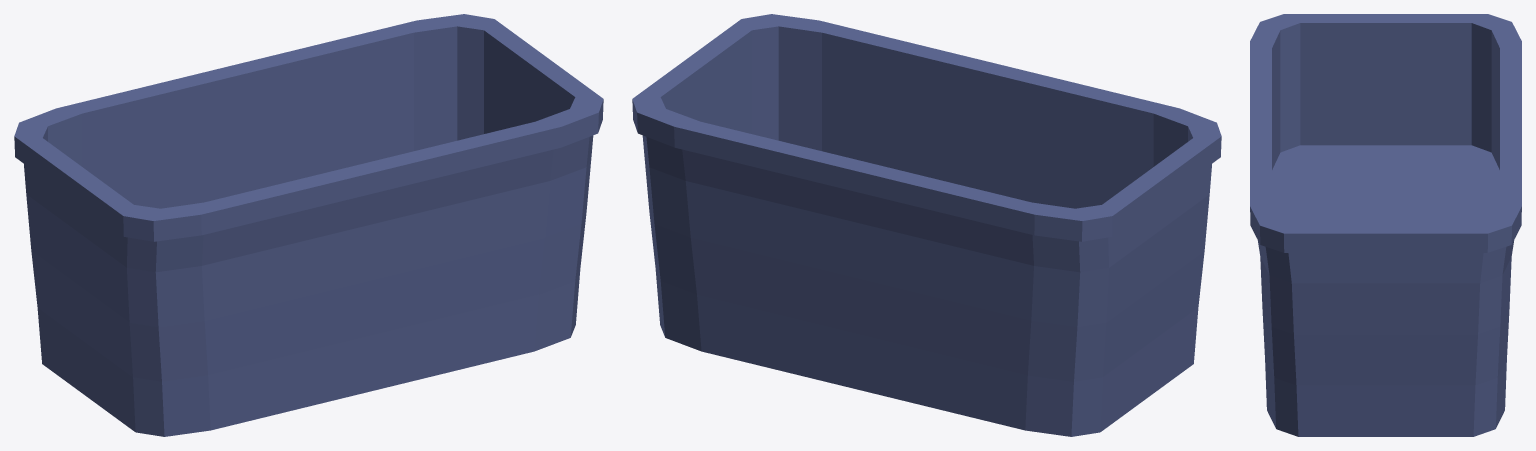
File: organizer plastic box.fbx
3 renders of one model, left to right at view 1: azimuth 30°, elevation 25°; view 2: azimuth 150°, elevation 25°; view 3: azimuth 270°, elevation 25°, orthographic. The views are drawn at different scales.
Parts seen in each view (by area): view 1: organizer plastic box; view 2: organizer plastic box; view 3: organizer plastic box.
Boxes of the visible parts, bbox=[...] form: organizer plastic box: bbox=[14, 14, 603, 436]; organizer plastic box: bbox=[632, 14, 1221, 436]; organizer plastic box: bbox=[1250, 14, 1521, 436].
Size of the model in its own units: 44.29 by 23.18 by 20.
